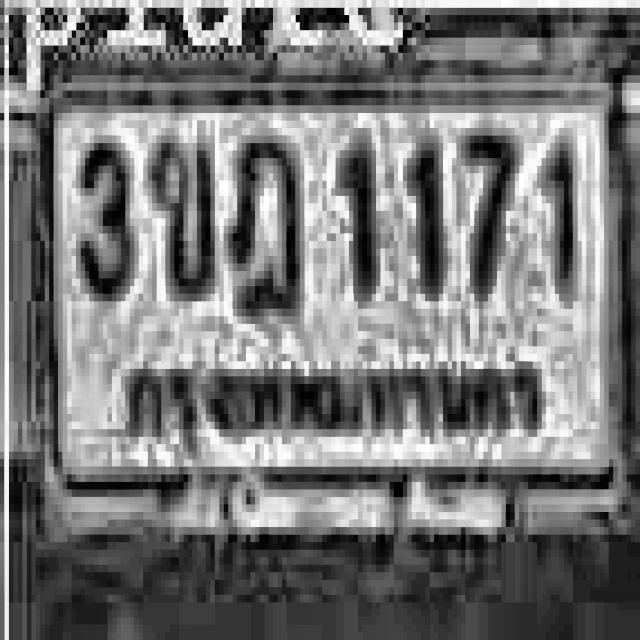license-plate: (29, 68, 639, 569)
